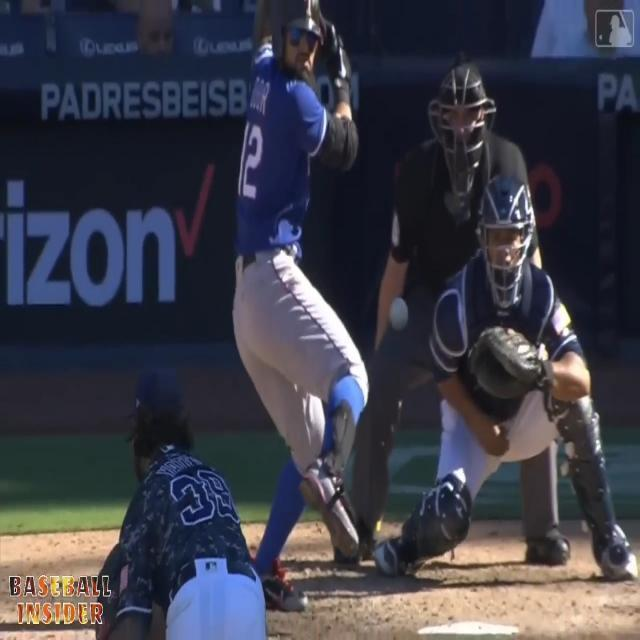ball: (388, 296, 410, 332)
